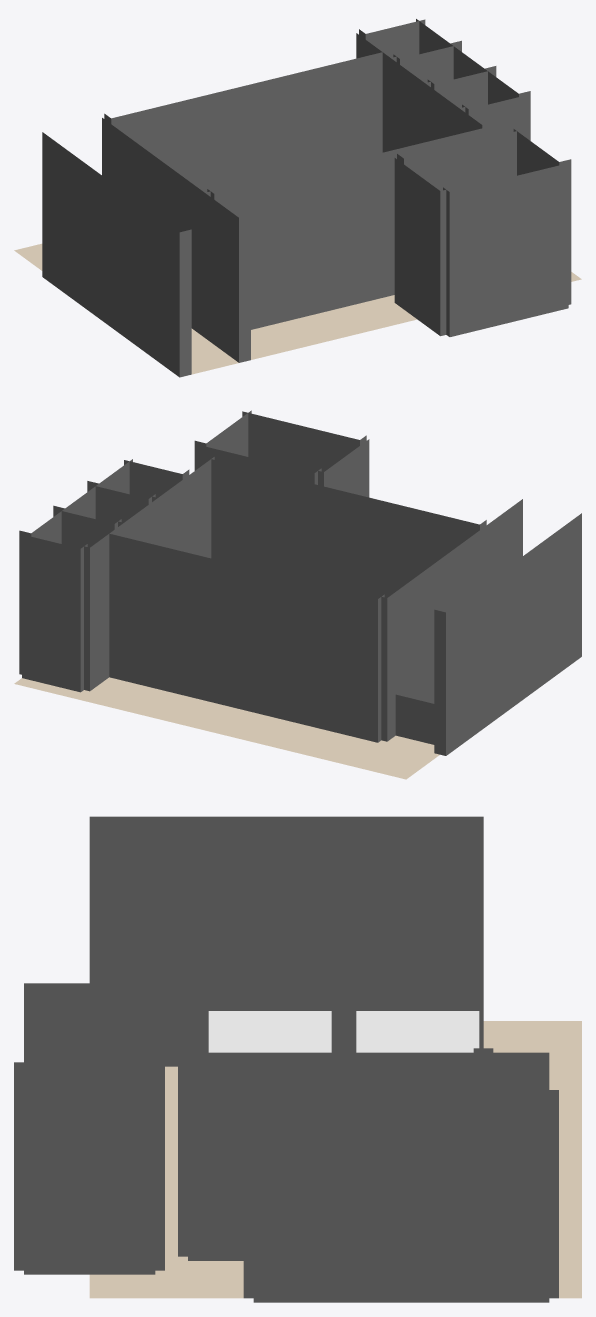
The picture shows the model from 3 angles, top to bottom: view 1: azimuth 30°, elevation 25°; view 2: azimuth 150°, elevation 25°; view 3: azimuth 270°, elevation 25°; orthographic projection. The views are drawn at different scales.
Parts seen in each view (by area): view 1: hall_wall_north, hall_wall_south, entrance_wall_west, kitchen_wall_north, entrance_wall_east, kitchen_wall_west, hall_wall_west, floor, hall_wall_east, kitchen_wall_south, room1_wall_north, kitchen_wall_east (+6 smaller); view 2: hall_wall_south, hall_wall_north, entrance_wall_west, floor, room3_wall_south, hall_wall_west, entrance_wall_east, hall_wall_east, kitchen_wall_north, room3_wall_west, kitchen_wall_west, cashier_desk (+8 smaller); view 3: hall_wall_west, entrance_wall_east, kitchen_wall_east, hall_wall_east, room1_wall_east, room3_wall_east, room2_wall_east, entrance_wall_west, floor, kitchen_wall_west, table_4, table_1 (+8 smaller).
Part boxes in pixels (<box>): hall_wall_north: <box>207,126,491,329</box>; hall_wall_south: <box>104,51,388,192</box>; entrance_wall_west: <box>42,132,191,377</box>; kitchen_wall_north: <box>443,163,568,336</box>; entrance_wall_east: <box>102,118,250,362</box>; kitchen_wall_west: <box>394,158,452,336</box>; hall_wall_west: <box>102,118,216,337</box>; floor: <box>14,243,581,374</box>; hall_wall_east: <box>379,50,493,152</box>; kitchen_wall_south: <box>397,129,522,191</box>; room1_wall_north: <box>462,95,528,138</box>; kitchen_wall_east: <box>513,129,571,304</box>; hall_wall_south: <box>103,532,384,742</box>; hall_wall_north: <box>205,457,486,598</box>; entrance_wall_west: <box>434,513,581,755</box>; floor: <box>14,677,439,779</box>; room3_wall_south: <box>22,534,87,692</box>; hall_wall_west: <box>376,524,489,740</box>; entrance_wall_east: <box>375,499,522,741</box>; hall_wall_east: <box>101,457,214,558</box>; kitchen_wall_north: <box>242,411,366,472</box>; room3_wall_west: <box>78,523,123,691</box>; kitchen_wall_west: <box>312,439,369,497</box>; cashier_desk: <box>395,694,434,744</box>; hall_wall_west: <box>188,858,483,1052</box>; entrance_wall_east: <box>89,858,483,1066</box>; kitchen_wall_east: <box>24,1066,155,1274</box>; hall_wall_east: <box>188,1052,483,1260</box>; room1_wall_east: <box>253,1094,352,1302</box>; room3_wall_east: <box>450,1094,549,1302</box>; room2_wall_east: <box>352,1094,450,1302</box>; entrance_wall_west: <box>89,816,483,858</box>; floor: <box>89,1021,581,1298</box>; kitchen_wall_west: <box>24,983,155,1066</box>; table_4: <box>208,1011,331,1052</box>; table_1: <box>356,1011,479,1052</box>.
Size of the model in its own units: 8.24 by 2.8 by 6.92.
